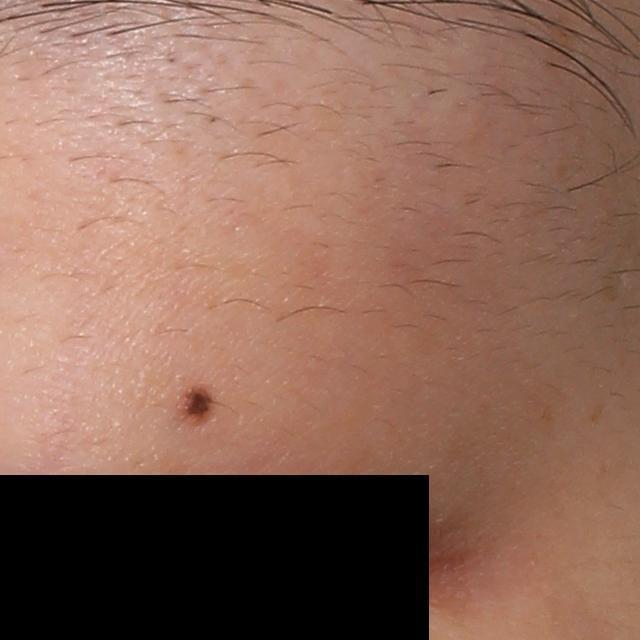melasma: (589, 402, 602, 423)
